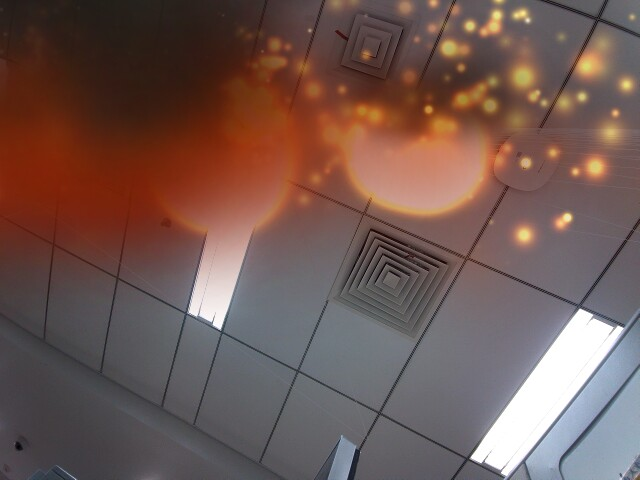fire: (161, 90, 305, 241), (352, 84, 497, 219)
